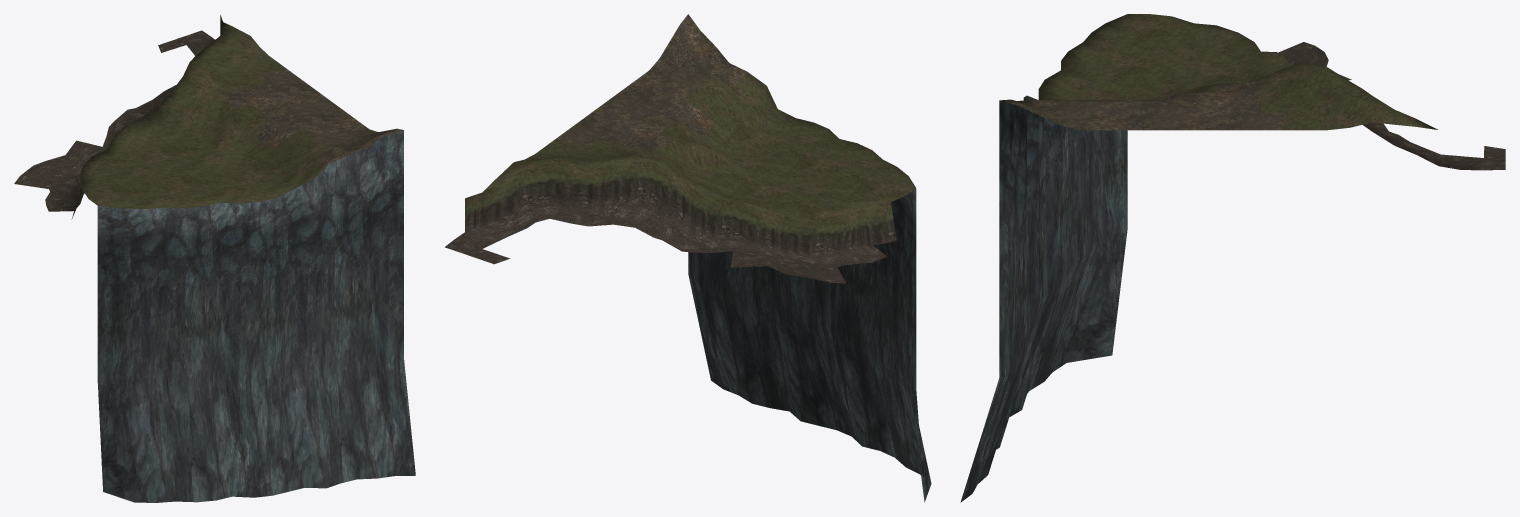
File: terrain_base06.fbx
The picture shows the model from 3 angles, left to right: view 1: azimuth 30°, elevation 25°; view 2: azimuth 150°, elevation 25°; view 3: azimuth 270°, elevation 25°; orthographic projection. The views are drawn at different scales.
Parts seen in each view (by area): view 1: terrain_base06-0; view 2: terrain_base06-0; view 3: terrain_base06-0.
Part boxes in pixels (x1,y1,x2,y2): terrain_base06-0: [14, 15, 415, 502]; terrain_base06-0: [445, 14, 931, 502]; terrain_base06-0: [960, 14, 1505, 502].
Size of the model in its own units: 42.92 by 50.37 by 61.3.
